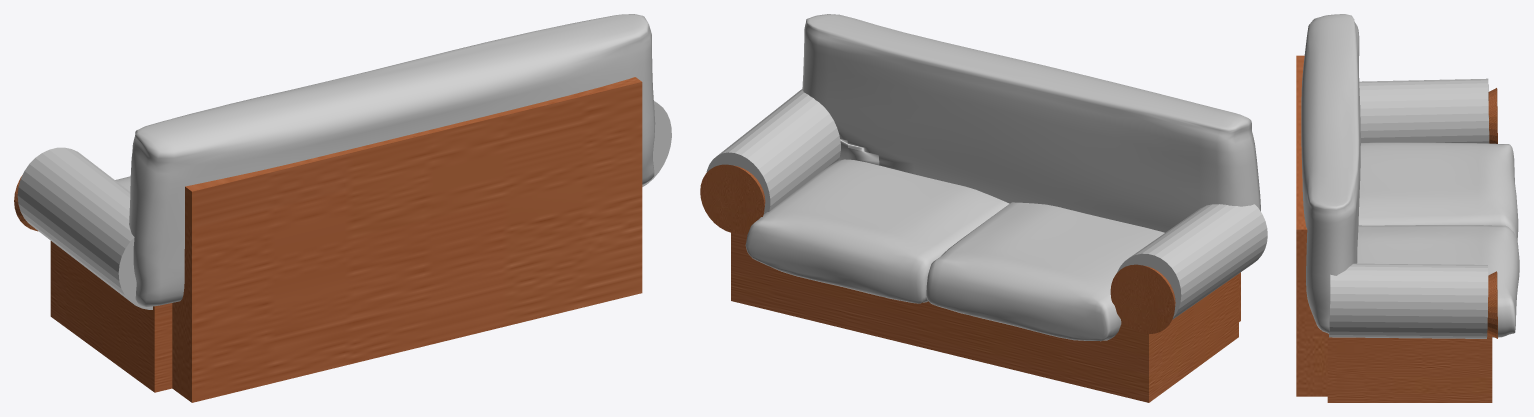
File: couch.obj
3 renders of one model, left to right at view 1: azimuth 30°, elevation 25°; view 2: azimuth 150°, elevation 25°; view 3: azimuth 270°, elevation 25°, orthographic. The views are drawn at different scales.
Visible parts, largest first — view 1: Cube.001_Cube.002, default.001_default.002, Cylinder, Cube, Cylinder.001; view 2: default.001_default.002, Cube, default, default.002_default.003, Cylinder, Cylinder.001, Cone_Cone.001, Cone.001_Cone.002; view 3: default.001_default.002, default.002_default.003, Cylinder.001, Cube, Cylinder, default, Cube.001_Cube.002, Cone.001_Cone.002, Cone_Cone.001.
Boxes of the visible parts, x1,y1,x2,y2 form: Cube.001_Cube.002: (172, 77, 642, 402); default.001_default.002: (129, 14, 655, 306); Cylinder: (17, 147, 152, 309); Cube: (50, 241, 172, 392); Cylinder.001: (642, 101, 671, 186); default.001_default.002: (802, 14, 1260, 232); Cube: (731, 232, 1238, 402); default: (745, 159, 1009, 303); default.002_default.003: (926, 202, 1164, 341); Cylinder: (1117, 204, 1267, 319); Cylinder.001: (706, 89, 840, 214); Cone_Cone.001: (1110, 264, 1175, 333); Cone.001_Cone.002: (700, 164, 765, 233); default.001_default.002: (1301, 14, 1360, 333); default.002_default.003: (1358, 142, 1518, 240); Cylinder.001: (1329, 263, 1488, 338); Cube: (1327, 333, 1492, 402); Cylinder: (1359, 78, 1489, 143); default: (1357, 225, 1519, 337); Cube.001_Cube.002: (1296, 55, 1327, 396); Cone.001_Cone.002: (1487, 271, 1497, 338); Cone_Cone.001: (1488, 88, 1497, 143).
Bounding box in the file's own units: 5.11 × 2.26 × 2.26.
